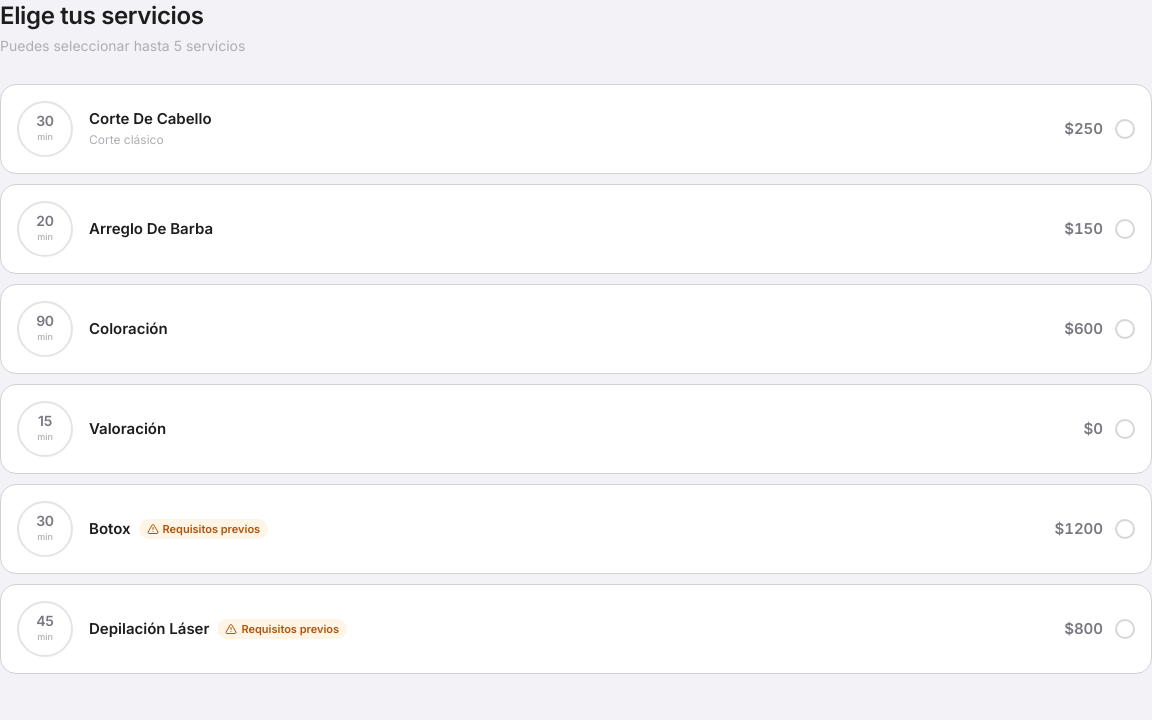
it: ServiceSelector — RequirementsModal interception (add only) › "Entendido, continuar" adds a text-only flagged service
The image size is (1152, 720).
Click the button "45 min Depilación Láser Requisitos previos $800" at (45,629), box [0,584,1151,674]
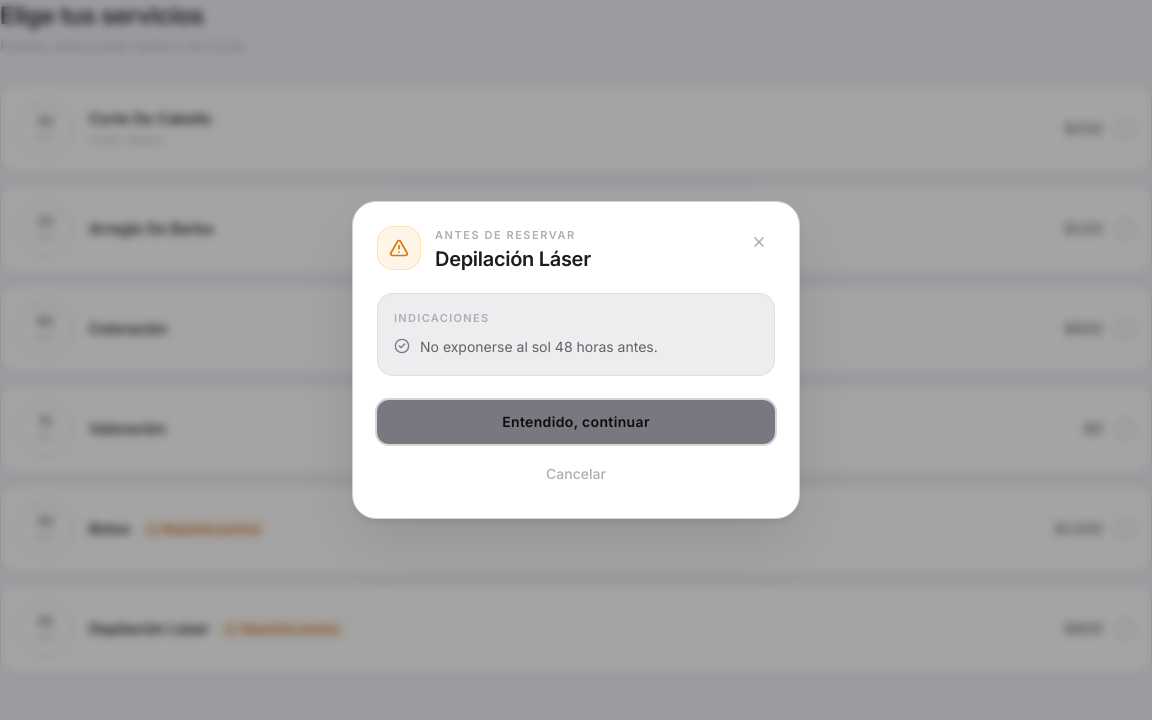
Click the button "Entendido, continuar" at (576,422), box [377,400,775,444]
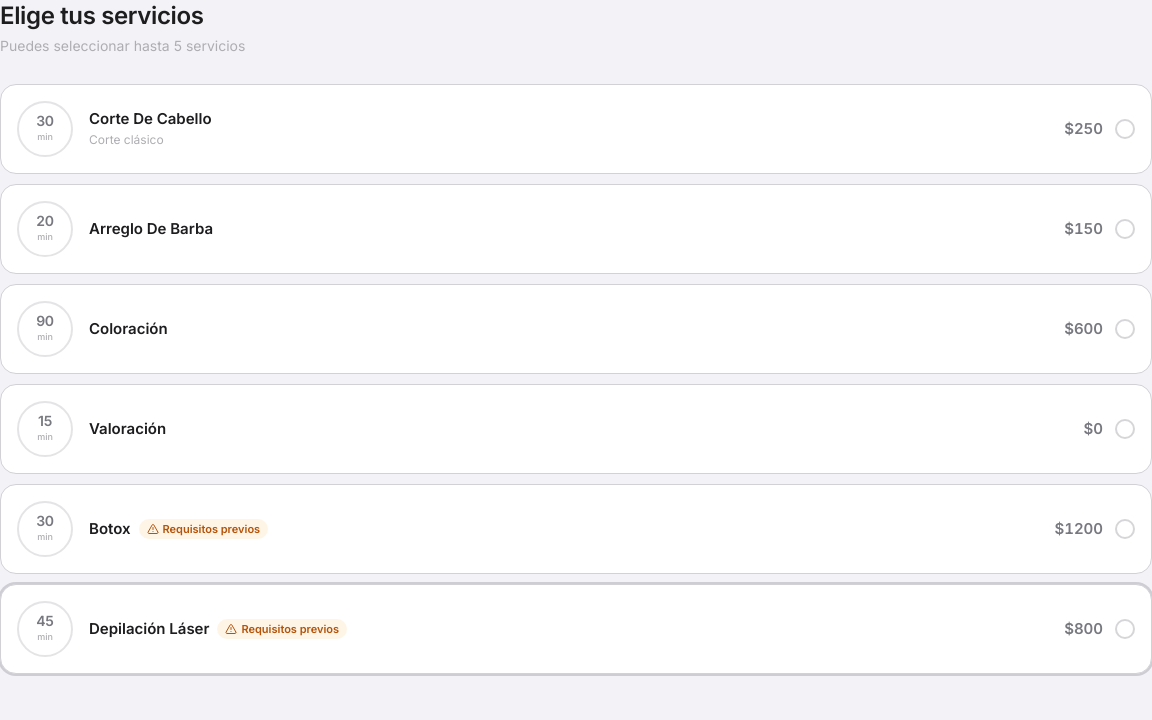
Check: the dialog is gone
